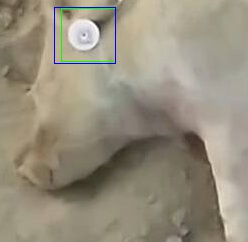text: (61, 8, 115, 61)
